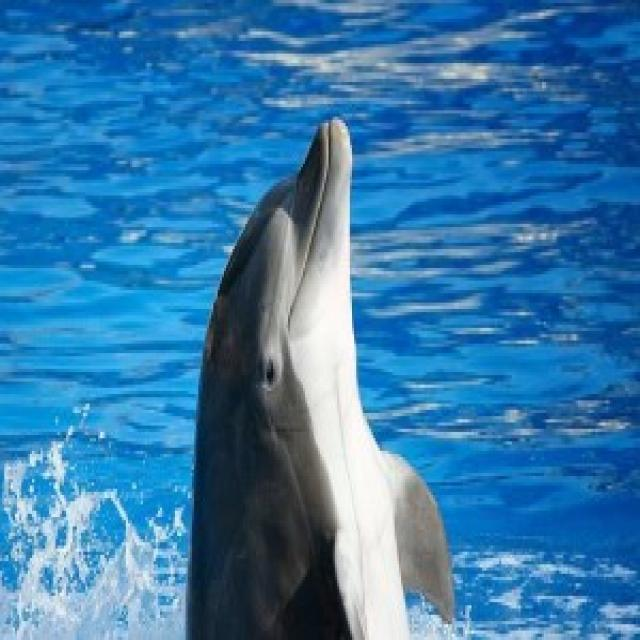Dolphin: (178, 74, 460, 640)
